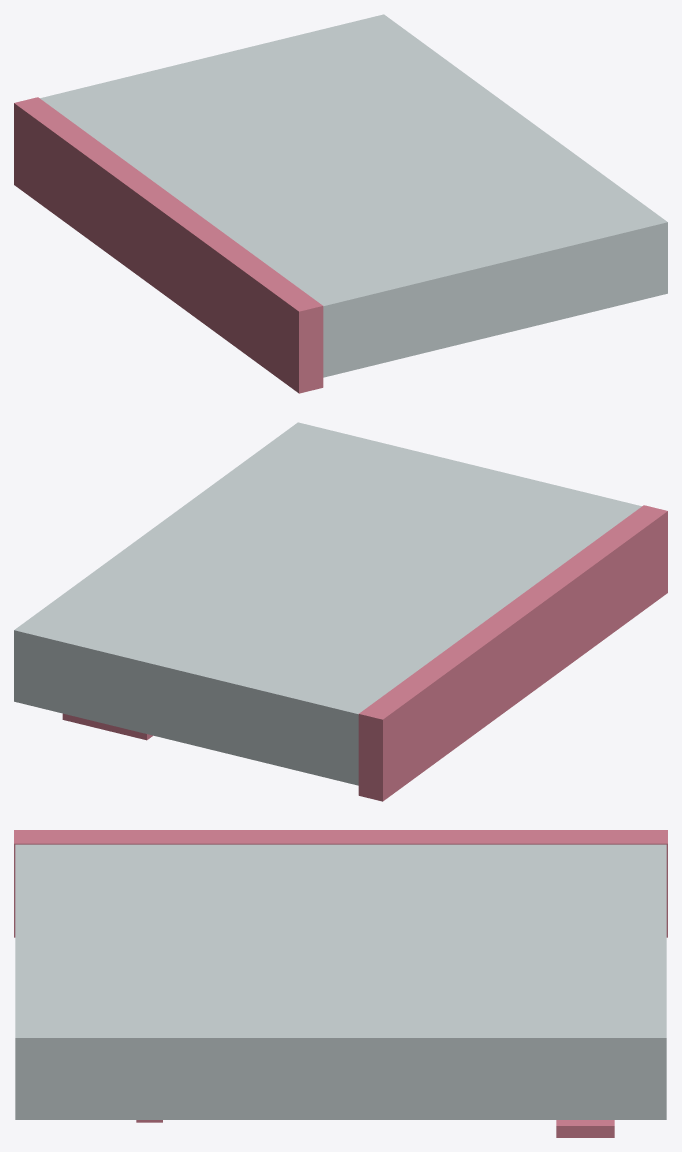
File: visualjam.glb
3 renders of one model, top to bottom at view 1: azimuth 30°, elevation 25°; view 2: azimuth 150°, elevation 25°; view 3: azimuth 270°, elevation 25°, orthographic. The views are drawn at different scales.
Parts seen in each view (by area): view 1: Visual Jam carton, Visual Jam spine; view 2: Visual Jam carton, Visual Jam spine, Visual Jam edition chip; view 3: Visual Jam carton, Visual Jam spine, Visual Jam edition chip.
Boxes of the visible parts, <box> form: Visual Jam carton: <box>40,14,667,377</box>; Visual Jam spine: <box>14,97,323,393</box>; Visual Jam carton: <box>14,422,641,785</box>; Visual Jam spine: <box>358,505,667,801</box>; Visual Jam edition chip: <box>62,713,152,740</box>; Visual Jam carton: <box>15,844,666,1119</box>; Visual Jam spine: <box>14,830,667,937</box>; Visual Jam edition chip: <box>556,1120,614,1137</box>.
Bounding box in the file's own units: 1.84 × 0.4825 × 2.46.
